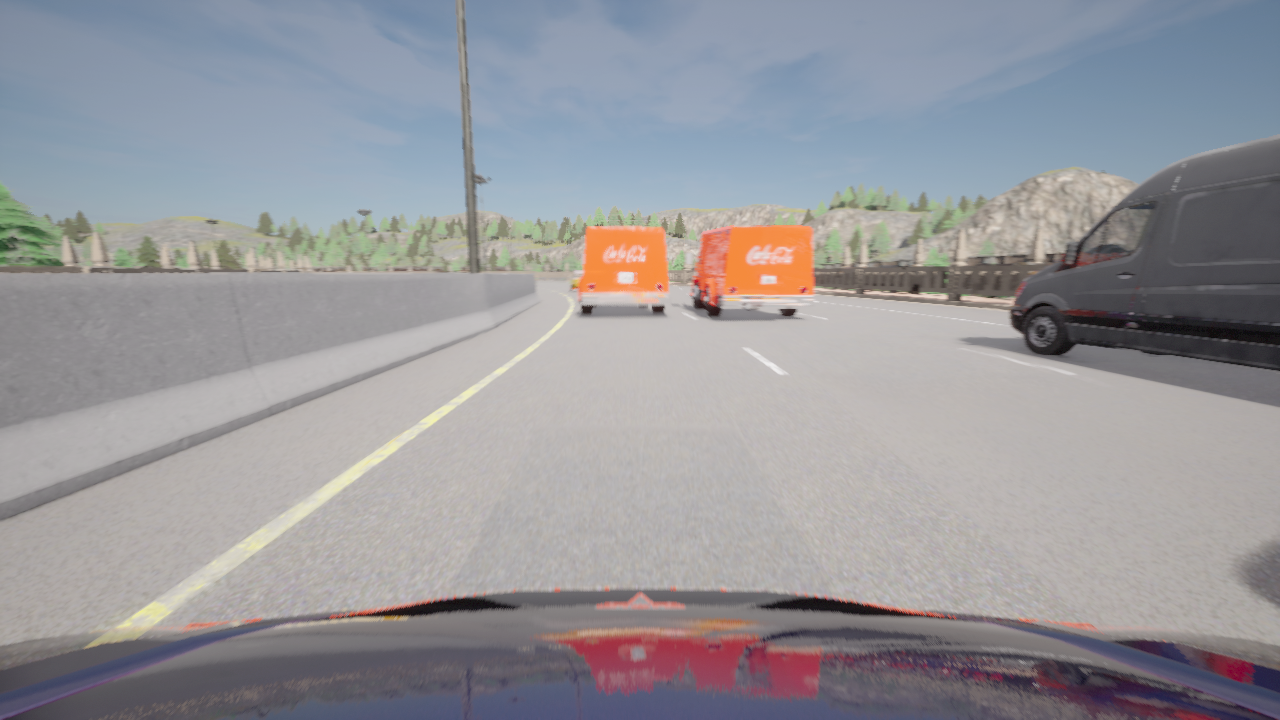cyclist: (0, 588, 1279, 719), (1010, 135, 1279, 371), (685, 226, 813, 316), (578, 227, 670, 314), (569, 271, 583, 292)
